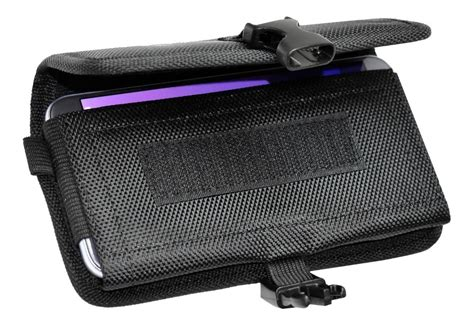nylon: (22, 15, 451, 308)
